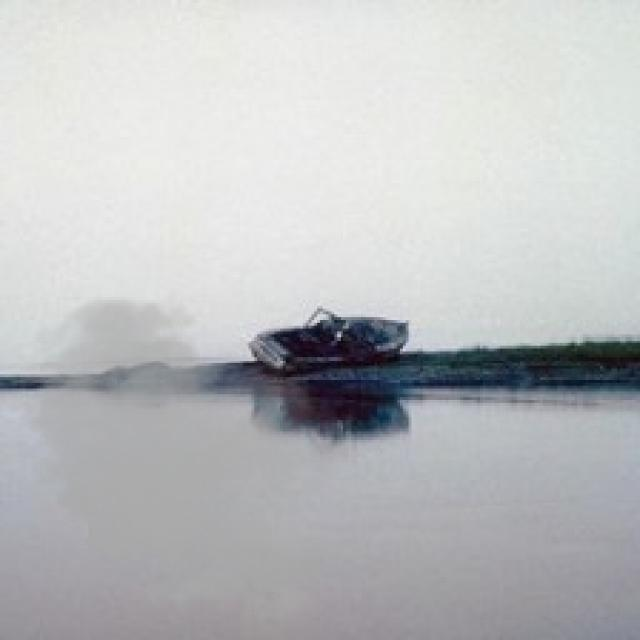smoke: (9, 288, 357, 632)
